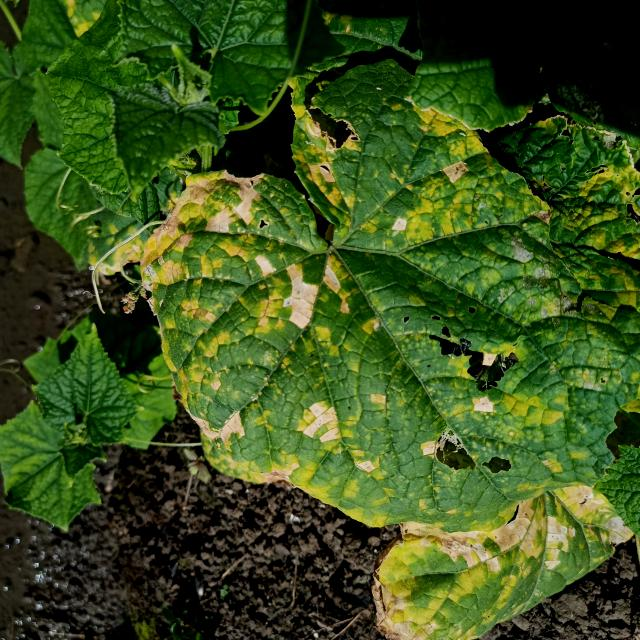disease_cucumber: (140, 83, 621, 510), (366, 466, 626, 633)
